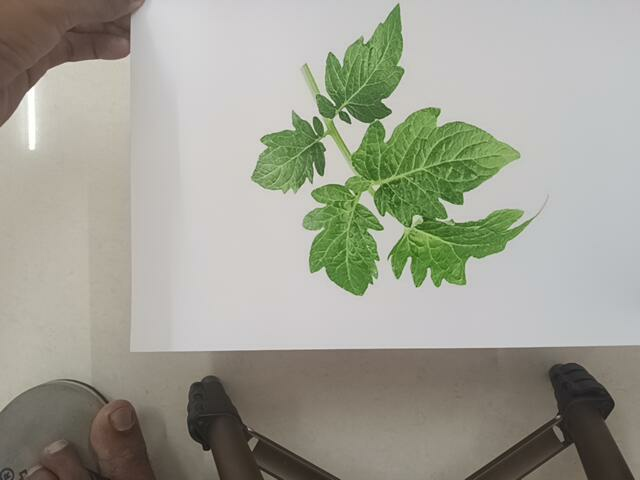Tomamto_Leaf_Healthy: (227, 6, 549, 328)
